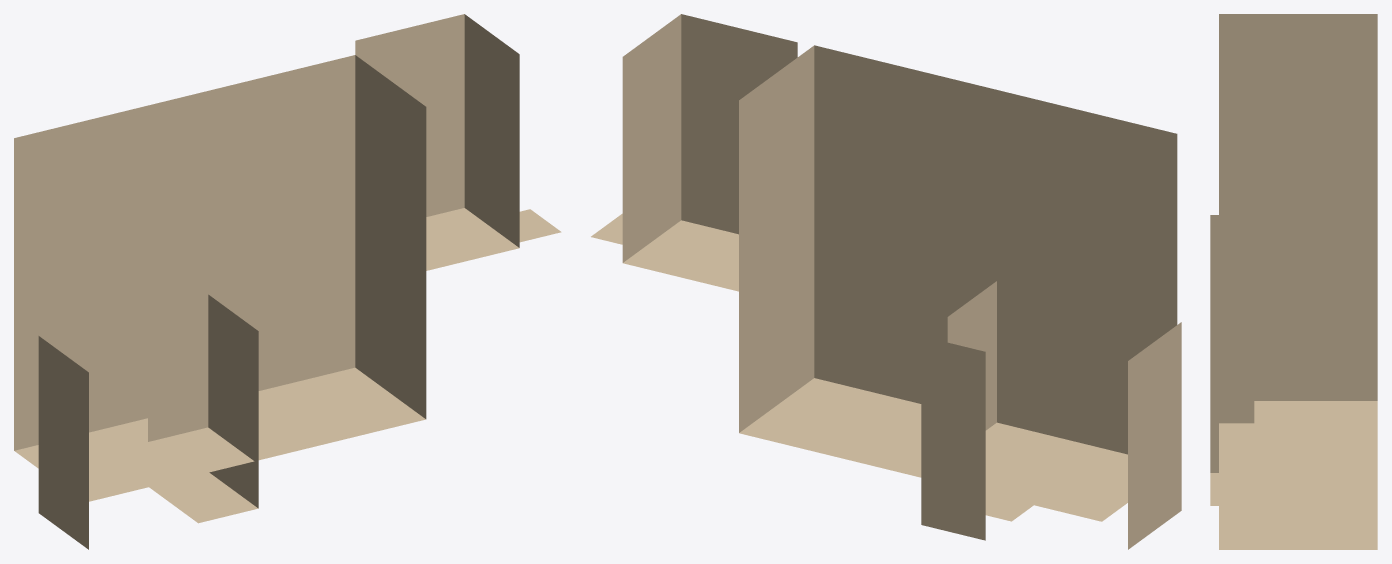
3 renders of one model, left to right at view 1: azimuth 30°, elevation 25°; view 2: azimuth 150°, elevation 25°; view 3: azimuth 270°, elevation 25°, orthographic. The views are drawn at different scales.
Visible parts, largest first — view 1: Smilodon; view 2: Smilodon; view 3: Smilodon.
Boxes of the visible parts, <box> form: Smilodon: <box>14,14,561,549</box>; Smilodon: <box>591,14,1181,549</box>; Smilodon: <box>1210,14,1377,549</box>.
Bounding box in the file's own units: 0.7305 × 0.52 × 0.1899.
